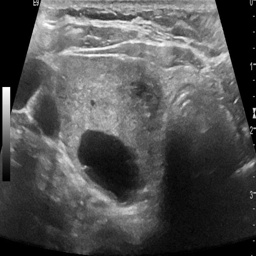mass: (57, 56, 154, 201)
